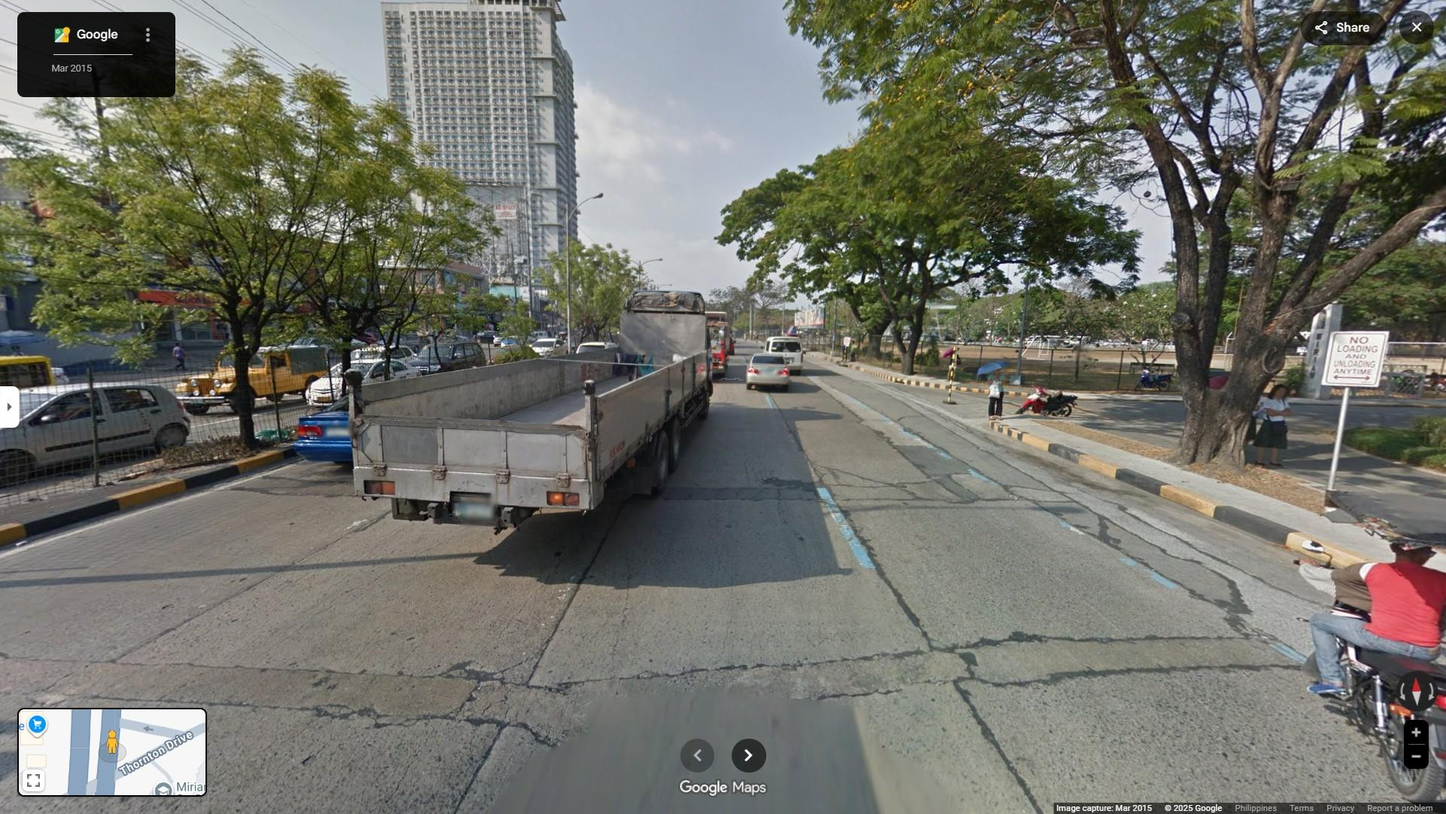pedestrian: (1255, 384, 1294, 469), (1225, 378, 1261, 463), (986, 364, 1006, 421), (946, 346, 961, 382), (849, 340, 858, 362), (841, 338, 848, 361)
